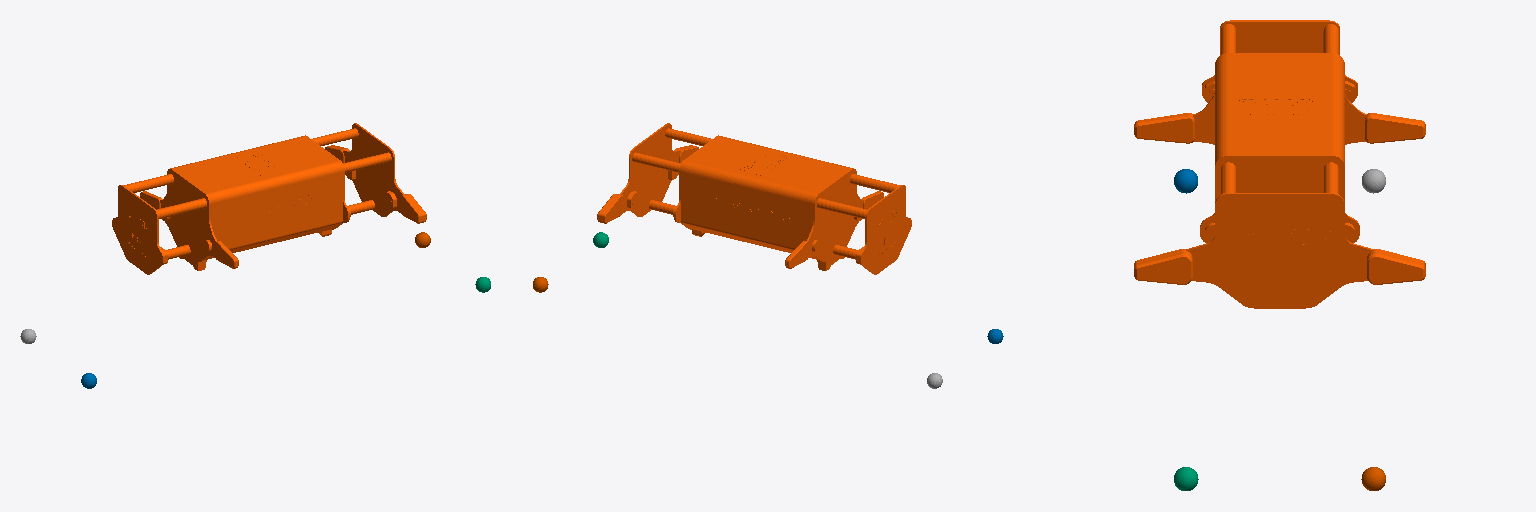
URDF robot description (laikago_description):
<?xml version="1.0" ?>
<!-- =================================================================================== -->
<!-- |    This document was autogenerated by xacro from robot.xacro                    | -->
<!-- |    EDITING THIS FILE BY HAND IS NOT RECOMMENDED                                 | -->
<!-- =================================================================================== -->
<robot name="laikago_description" xmlns:xacro="http://www.ros.org/wiki/xacro">
  <material name="black">
    <color rgba="0.0 0.0 0.0 1.0"/>
  </material>
  <material name="blue">
    <color rgba="0.0 0.0 0.8 1.0"/>
  </material>
  <material name="green">
    <color rgba="0.0 0.8 0.0 1.0"/>
  </material>
  <material name="grey">
    <color rgba="0.2 0.2 0.2 1.0"/>
  </material>
  <material name="silver">
    <color rgba="0.913725490196 0.913725490196 0.847058823529 1.0"/>
  </material>
  <material name="orange">
    <color rgba="1.0 0.423529411765 0.0392156862745 1.0"/>
  </material>
  <material name="brown">
    <color rgba="0.870588235294 0.811764705882 0.764705882353 1.0"/>
  </material>
  <material name="red">
    <color rgba="0.8 0.0 0.0 1.0"/>
  </material>
  <material name="white">
    <color rgba="1.0 1.0 1.0 1.0"/>
  </material>

  <link name="trunk">
    <visual>
      <origin rpy="0 0 0" xyz="0 0 0"/>
      <geometry>
        <mesh filename="../meshes/trunk.dae" scale="1 1 1"/>
      </geometry>
      <material name="orange"/>
    </visual>
    <collision>
      <origin rpy="0 0 0" xyz="0 0 0.01675"/>
      <geometry>
        <box size="0.5616 0.172 0.1875"/>
      </geometry>
    </collision>
    <inertial>
      <origin rpy="0 0 0" xyz="0.002284 -4.1e-05 0.025165"/>
      <mass value="13.733"/>
      <inertia ixx="0.073348887" ixy="0.00030338" ixz="0.001918218" iyy="0.250684593" iyz="-7.5402e-05" izz="0.254469458"/>
    </inertial>
  </link>

  <joint name="FL_hip_joint" type="revolute">
    <origin rpy="0 0 0" xyz="0.21935 0.0875 0"/>
    <parent link="trunk"/>
    <child link="FL_hip"/>
    <axis xyz="1 0 0"/>
    <dynamics damping="0" friction="0"/>
    <limit effort="20" lower="-0.872664625997" upper="1.0471975512" velocity="52.4"/>
  </joint>
  <link name="FL_hip">
    <visual>
      <origin rpy="0 0 0" xyz="0 0 0"/>
      <geometry>
        <mesh filename="../meshes/hip.dae" scale="1 1 1"/>
      </geometry>
      <material name="grey"/>
    </visual>
    <collision>
      <origin rpy="1.57079632679 0 0" xyz="0 -0.021 0"/>
      <geometry>
        <cylinder length="0.08" radius="0.041"/>
      </geometry>
    </collision>
    <inertial>
      <origin rpy="0 0 0" xyz="-0.001568 -0.008134 0.000864"/>
      <mass value="1.096"/>
      <inertia ixx="0.000822113" ixy="-4.982e-06" ixz="-3.672e-05" iyy="0.000983196" iyz="2.811e-06" izz="0.000864753"/>
    </inertial>
  </link>
  <joint name="FL_hip_fixed" type="fixed">
    <origin rpy="0 0 0" xyz="0 0.059 0"/>
    <parent link="FL_hip"/>
    <child link="FL_thigh_shoulder"/>
  </joint>
  <!-- this link is only for collision -->
  <link name="FL_thigh_shoulder">
    <collision>
      <origin rpy="1.57079632679 0 0" xyz="0 0 0"/>
      <geometry>
        <cylinder length="0.08" radius="0.044"/>
      </geometry>
    </collision>
  </link>
  <joint name="FL_thigh_joint" type="revolute">
    <origin rpy="0 0 0" xyz="0 0.037 0"/>
    <parent link="FL_hip"/>
    <child link="FL_thigh"/>
    <axis xyz="0 1 0"/>
    <dynamics damping="0" friction="0"/>
    <limit effort="55" lower="-0.523598775598" upper="3.92699081699" velocity="28.6"/>
  </joint>
  <link name="FL_thigh">
    <visual>
      <origin rpy="0 0 0" xyz="0 0 0"/>
      <geometry>
        <mesh filename="../meshes/thigh.dae" scale="1 1 1"/>
      </geometry>
      <material name="grey"/>
    </visual>
    <collision>
      <origin rpy="0 1.57079632679 0" xyz="0 0 -0.125"/>
      <geometry>
        <box size="0.25 0.034 0.043"/>
      </geometry>
    </collision>
    <inertial>
      <origin rpy="0 0 0" xyz="-0.000482 0.02001 -0.031996"/>
      <mass value="1.528"/>
      <inertia ixx="0.00991611" ixy="1.0388e-05" ixz="0.000250428" iyy="0.009280083" iyz="-8.511e-05" izz="0.00178256"/>
    </inertial>
  </link>
  <joint name="FL_calf_joint" type="revolute">
    <origin rpy="0 0 0" xyz="0 0 -0.25"/>
    <parent link="FL_thigh"/>
    <child link="FL_calf"/>
    <axis xyz="0 1 0"/>
    <dynamics damping="0" friction="0"/>
    <limit effort="55" lower="-2.77507351067" upper="-0.610865238198" velocity="28.6"/>
  </joint>
  <link name="FL_calf">
    <visual>
      <origin rpy="0 0 0" xyz="0 0 0"/>
      <geometry>
        <mesh filename="../meshes/calf.dae" scale="1 1 1"/>
      </geometry>
      <material name="silver"/>
    </visual>
    <collision>
      <origin rpy="0 1.57079632679 0" xyz="0 0 -0.125"/>
      <geometry>
        <box size="0.25 0.016 0.016"/>
      </geometry>
    </collision>
    <inertial>
      <origin rpy="0 0 0" xyz="-0.002196 -0.000381 -0.12338"/>
      <mass value="0.241"/>
      <inertia ixx="0.006181961" ixy="2.37e-07" ixz="-2.985e-06" iyy="0.006196546" iyz="5.138e-06" izz="3.4774e-05"/>
    </inertial>
  </link>
  <joint name="FL_foot_fixed" type="fixed">
    <origin rpy="0 0 0" xyz="0 0 -0.25"/>
    <parent link="FL_calf"/>
    <child link="FL_foot"/>
  </joint>
  <link name="FL_foot">
    <visual>
      <origin rpy="0 0 0" xyz="0 0 0"/>
      <geometry>
        <sphere radius="0.0165"/>
      </geometry>
    </visual>
    <collision>
      <origin rpy="0 0 0" xyz="0 0 0"/>
      <geometry>
        <sphere radius="0.0265"/>
      </geometry>
    </collision>
    <inertial>
      <mass value="0.06"/>
      <inertia ixx="1.6854e-05" ixy="0.0" ixz="0.0" iyy="1.6854e-05" iyz="0.0" izz="1.6854e-05"/>
    </inertial>
  </link>

  <joint name="FR_hip_joint" type="revolute">
    <origin rpy="0 0 0" xyz="0.21935 -0.0875 0"/>
    <parent link="trunk"/>
    <child link="FR_hip"/>
    <axis xyz="1 0 0"/>
    <dynamics damping="0" friction="0"/>
    <limit effort="20" lower="-1.0471975512" upper="0.872664625997" velocity="52.4"/>
  </joint>
  <link name="FR_hip">
    <visual>
      <origin rpy="3.14159265359 0 0" xyz="0 0 0"/>
      <geometry>
        <mesh filename="../meshes/hip.dae" scale="1 1 1"/>
      </geometry>
      <material name="grey"/>
    </visual>
    <collision>
      <origin rpy="1.57079632679 0 0" xyz="0 0.021 0"/>
      <geometry>
        <cylinder length="0.08" radius="0.041"/>
      </geometry>
    </collision>
    <inertial>
      <origin rpy="0 0 0" xyz="-0.001568 0.008134 0.000864"/>
      <mass value="1.096"/>
      <inertia ixx="0.000822113" ixy="4.982e-06" ixz="-3.672e-05" iyy="0.000983196" iyz="-2.811e-06" izz="0.000864753"/>
    </inertial>
  </link>
  <joint name="FR_hip_fixed" type="fixed">
    <origin rpy="0 0 0" xyz="0 -0.059 0"/>
    <parent link="FR_hip"/>
    <child link="FR_thigh_shoulder"/>
  </joint>
  <!-- this link is only for collision -->
  <link name="FR_thigh_shoulder">
    <collision>
      <origin rpy="1.57079632679 0 0" xyz="0 0 0"/>
      <geometry>
        <cylinder length="0.08" radius="0.044"/>
      </geometry>
    </collision>
  </link>
  <joint name="FR_thigh_joint" type="revolute">
    <origin rpy="0 0 0" xyz="0 -0.037 0"/>
    <parent link="FR_hip"/>
    <child link="FR_thigh"/>
    <axis xyz="0 1 0"/>
    <dynamics damping="0" friction="0"/>
    <limit effort="55" lower="-0.523598775598" upper="3.92699081699" velocity="28.6"/>
  </joint>
  <link name="FR_thigh">
    <visual>
      <origin rpy="0 0 0" xyz="0 0 0"/>
      <geometry>
        <mesh filename="../meshes/thigh_mirror.dae" scale="1 1 1"/>
      </geometry>
      <material name="grey"/>
    </visual>
    <collision>
      <origin rpy="0 1.57079632679 0" xyz="0 0 -0.125"/>
      <geometry>
        <box size="0.25 0.034 0.043"/>
      </geometry>
    </collision>
    <inertial>
      <origin rpy="0 0 0" xyz="-0.000482 -0.02001 -0.031996"/>
      <mass value="1.528"/>
      <inertia ixx="0.00991611" ixy="-1.0388e-05" ixz="0.000250428" iyy="0.009280083" iyz="8.511e-05" izz="0.00178256"/>
    </inertial>
  </link>
  <joint name="FR_calf_joint" type="revolute">
    <origin rpy="0 0 0" xyz="0 0 -0.25"/>
    <parent link="FR_thigh"/>
    <child link="FR_calf"/>
    <axis xyz="0 1 0"/>
    <dynamics damping="0" friction="0"/>
    <limit effort="55" lower="-2.77507351067" upper="-0.610865238198" velocity="28.6"/>
  </joint>
  <link name="FR_calf">
    <visual>
      <origin rpy="0 0 0" xyz="0 0 0"/>
      <geometry>
        <mesh filename="../meshes/calf.dae" scale="1 1 1"/>
      </geometry>
      <material name="silver"/>
    </visual>
    <collision>
      <origin rpy="0 1.57079632679 0" xyz="0 0 -0.125"/>
      <geometry>
        <box size="0.25 0.016 0.016"/>
      </geometry>
    </collision>
    <inertial>
      <origin rpy="0 0 0" xyz="-0.002196 -0.000381 -0.12338"/>
      <mass value="0.241"/>
      <inertia ixx="0.006181961" ixy="2.37e-07" ixz="-2.985e-06" iyy="0.006196546" iyz="5.138e-06" izz="3.4774e-05"/>
    </inertial>
  </link>
  <joint name="FR_foot_fixed" type="fixed">
    <origin rpy="0 0 0" xyz="0 0 -0.25"/>
    <parent link="FR_calf"/>
    <child link="FR_foot"/>
  </joint>
  <link name="FR_foot">
    <visual>
      <origin rpy="0 0 0" xyz="0 0 0"/>
      <geometry>
        <sphere radius="0.0165"/>
      </geometry>
    </visual>
    <collision>
      <origin rpy="0 0 0" xyz="0 0 0"/>
      <geometry>
        <sphere radius="0.0265"/>
      </geometry>
    </collision>
    <inertial>
      <mass value="0.06"/>
      <inertia ixx="1.6854e-05" ixy="0.0" ixz="0.0" iyy="1.6854e-05" iyz="0.0" izz="1.6854e-05"/>
    </inertial>
  </link>

  <joint name="RL_hip_joint" type="revolute">
    <origin rpy="0 0 0" xyz="-0.21935 0.0875 0"/>
    <parent link="trunk"/>
    <child link="RL_hip"/>
    <axis xyz="1 0 0"/>
    <dynamics damping="0" friction="0"/>
    <limit effort="20" lower="-0.872664625997" upper="1.0471975512" velocity="52.4"/>
  </joint>
  <link name="RL_hip">
    <visual>
      <origin rpy="0 3.14159265359 0" xyz="0 0 0"/>
      <geometry>
        <mesh filename="../meshes/hip.dae" scale="1 1 1"/>
      </geometry>
      <material name="grey"/>
    </visual>
    <collision>
      <origin rpy="1.57079632679 0 0" xyz="0 -0.021 0"/>
      <geometry>
        <cylinder length="0.08" radius="0.041"/>
      </geometry>
    </collision>
    <inertial>
      <origin rpy="0 0 0" xyz="0.001568 -0.008134 0.000864"/>
      <mass value="1.096"/>
      <inertia ixx="0.000822113" ixy="4.982e-06" ixz="3.672e-05" iyy="0.000983196" iyz="2.811e-06" izz="0.000864753"/>
    </inertial>
  </link>
  <joint name="RL_hip_fixed" type="fixed">
    <origin rpy="0 0 0" xyz="0 0.059 0"/>
    <parent link="RL_hip"/>
    <child link="RL_thigh_shoulder"/>
  </joint>
  <!-- this link is only for collision -->
  <link name="RL_thigh_shoulder">
    <collision>
      <origin rpy="1.57079632679 0 0" xyz="0 0 0"/>
      <geometry>
        <cylinder length="0.08" radius="0.044"/>
      </geometry>
    </collision>
  </link>
  <joint name="RL_thigh_joint" type="revolute">
    <origin rpy="0 0 0" xyz="0 0.037 0"/>
    <parent link="RL_hip"/>
    <child link="RL_thigh"/>
    <axis xyz="0 1 0"/>
    <dynamics damping="0" friction="0"/>
    <limit effort="55" lower="-3.92699081699" upper="0.523598775598" velocity="28.6"/>
  </joint>
  <link name="RL_thigh">
    <visual>
      <origin rpy="0 0 3.14159265359" xyz="0 0 0"/>
      <geometry>
        <mesh filename="../meshes/thigh_mirror.dae" scale="1 1 1"/>
      </geometry>
    </visual>
    <collision>
      <origin rpy="0 1.57079632679 0" xyz="0 0 -0.125"/>
      <geometry>
        <box size="0.25 0.034 0.043"/>
      </geometry>
    </collision>
    <inertial>
      <origin rpy="0 0 0" xyz="-0.000482 0.02001 -0.031996"/>
      <mass value="1.528"/>
      <inertia ixx="0.00991611" ixy="1.0388e-05" ixz="0.000250428" iyy="0.009280083" iyz="-8.511e-05" izz="0.00178256"/>
    </inertial>
  </link>
  <joint name="RL_calf_joint" type="revolute">
    <origin rpy="0 0 0" xyz="0 0 -0.25"/>
    <parent link="RL_thigh"/>
    <child link="RL_calf"/>
    <axis xyz="0 1 0"/>
    <dynamics damping="0" friction="0"/>
    <limit effort="55" lower="0.610865238198" upper="2.77507351067" velocity="28.6"/>
  </joint>
  <link name="RL_calf">
    <visual>
      <origin rpy="0 0 3.14159265359" xyz="0 0 0"/>
      <geometry>
        <mesh filename="../meshes/calf.dae" scale="1 1 1"/>
      </geometry>
    </visual>
    <collision>
      <origin rpy="0 1.57079632679 0" xyz="0 0 -0.125"/>
      <geometry>
        <box size="0.25 0.016 0.016"/>
      </geometry>
    </collision>
    <inertial>
      <origin rpy="0 0 0" xyz="-0.002196 -0.000381 -0.12338"/>
      <mass value="0.241"/>
      <inertia ixx="0.006181961" ixy="2.37e-07" ixz="-2.985e-06" iyy="0.006196546" iyz="5.138e-06" izz="3.4774e-05"/>
    </inertial>
  </link>
  <joint name="RL_foot_fixed" type="fixed">
    <origin rpy="0 0 0" xyz="0 0 -0.25"/>
    <parent link="RL_calf"/>
    <child link="RL_foot"/>
  </joint>
  <link name="RL_foot">
    <visual>
      <origin rpy="0 0 0" xyz="0 0 0"/>
      <geometry>
        <sphere radius="0.0165"/>
      </geometry>
    </visual>
    <collision>
      <origin rpy="0 0 0" xyz="0 0 0"/>
      <geometry>
        <sphere radius="0.0265"/>
      </geometry>
    </collision>
    <inertial>
      <mass value="0.06"/>
      <inertia ixx="1.6854e-05" ixy="0.0" ixz="0.0" iyy="1.6854e-05" iyz="0.0" izz="1.6854e-05"/>
    </inertial>
  </link>

  <joint name="RR_hip_joint" type="revolute">
    <origin rpy="0 0 0" xyz="-0.21935 -0.0875 0"/>
    <parent link="trunk"/>
    <child link="RR_hip"/>
    <axis xyz="1 0 0"/>
    <dynamics damping="0" friction="0"/>
    <limit effort="20" lower="-1.0471975512" upper="0.872664625997" velocity="52.4"/>
  </joint>
  <link name="RR_hip">
    <visual>
      <origin rpy="3.14159265359 3.14159265359 0" xyz="0 0 0"/>
      <geometry>
        <mesh filename="../meshes/hip.dae" scale="1 1 1"/>
      </geometry>
      <material name="grey"/>
    </visual>
    <collision>
      <origin rpy="1.57079632679 0 0" xyz="0 0.021 0"/>
      <geometry>
        <cylinder length="0.08" radius="0.041"/>
      </geometry>
    </collision>
    <inertial>
      <origin rpy="0 0 0" xyz="0.001568 0.008134 0.000864"/>
      <mass value="1.096"/>
      <inertia ixx="0.000822113" ixy="-4.982e-06" ixz="3.672e-05" iyy="0.000983196" iyz="-2.811e-06" izz="0.000864753"/>
    </inertial>
  </link>
  <joint name="RR_hip_fixed" type="fixed">
    <origin rpy="0 0 0" xyz="0 -0.059 0"/>
    <parent link="RR_hip"/>
    <child link="RR_thigh_shoulder"/>
  </joint>
  <!-- this link is only for collision -->
  <link name="RR_thigh_shoulder">
    <collision>
      <origin rpy="1.57079632679 0 0" xyz="0 0 0"/>
      <geometry>
        <cylinder length="0.08" radius="0.044"/>
      </geometry>
    </collision>
  </link>
  <joint name="RR_thigh_joint" type="revolute">
    <origin rpy="0 0 0" xyz="0 -0.037 0"/>
    <parent link="RR_hip"/>
    <child link="RR_thigh"/>
    <axis xyz="0 1 0"/>
    <dynamics damping="0" friction="0"/>
    <limit effort="55" lower="-3.92699081699" upper="0.523598775598" velocity="28.6"/>
  </joint>
  <link name="RR_thigh">
    <visual>
      <origin rpy="0 0 3.14159265359" xyz="0 0 0"/>
      <geometry>
        <mesh filename="../meshes/thigh.dae" scale="1 1 1"/>
      </geometry>
      <material name="grey"/>
    </visual>
    <collision>
      <origin rpy="0 1.57079632679 0" xyz="0 0 -0.125"/>
      <geometry>
        <box size="0.25 0.034 0.043"/>
      </geometry>
    </collision>
    <inertial>
      <origin rpy="0 0 0" xyz="-0.000482 -0.02001 -0.031996"/>
      <mass value="1.528"/>
      <inertia ixx="0.00991611" ixy="-1.0388e-05" ixz="0.000250428" iyy="0.009280083" iyz="8.511e-05" izz="0.00178256"/>
    </inertial>
  </link>
  <joint name="RR_calf_joint" type="revolute">
    <origin rpy="0 0 0" xyz="0 0 -0.25"/>
    <parent link="RR_thigh"/>
    <child link="RR_calf"/>
    <axis xyz="0 1 0"/>
    <dynamics damping="0" friction="0"/>
    <limit effort="55" lower="0.610865238198" upper="2.77507351067" velocity="28.6"/>
  </joint>
  <link name="RR_calf">
    <visual>
      <origin rpy="0 0 3.14159265359" xyz="0 0 0"/>
      <geometry>
        <mesh filename="../meshes/calf.dae" scale="1 1 1"/>
      </geometry>
      <material name="silver"/>
    </visual>
    <collision>
      <origin rpy="0 1.57079632679 0" xyz="0 0 -0.125"/>
      <geometry>
        <box size="0.25 0.016 0.016"/>
      </geometry>
    </collision>
    <inertial>
      <origin rpy="0 0 0" xyz="-0.002196 -0.000381 -0.12338"/>
      <mass value="0.241"/>
      <inertia ixx="0.006181961" ixy="2.37e-07" ixz="-2.985e-06" iyy="0.006196546" iyz="5.138e-06" izz="3.4774e-05"/>
    </inertial>
  </link>
  <joint name="RR_foot_fixed" type="fixed">
    <origin rpy="0 0 0" xyz="0 0 -0.25"/>
    <parent link="RR_calf"/>
    <child link="RR_foot"/>
  </joint>
  <link name="RR_foot">
    <visual>
      <origin rpy="0 0 0" xyz="0 0 0"/>
      <geometry>
        <sphere radius="0.0165"/>
      </geometry>
    </visual>
    <collision>
      <origin rpy="0 0 0" xyz="0 0 0"/>
      <geometry>
        <sphere radius="0.0265"/>
      </geometry>
    </collision>
    <inertial>
      <mass value="0.06"/>
      <inertia ixx="1.6854e-05" ixy="0.0" ixz="0.0" iyy="1.6854e-05" iyz="0.0" izz="1.6854e-05"/>
    </inertial>
  </link>

</robot>

--- Render facts (derived) ---
3 views of the same robot in one strip: view 1: azimuth 30°, elevation 25°; view 2: azimuth 150°, elevation 25°; view 3: azimuth 270°, elevation 25° (orthographic).
Robot: laikago_description — 21 links, 20 joints (12 revolute, 8 fixed); root link trunk; default pose: joints at zero except 4 at the middle of their limits (FL_calf_joint = -1.69, FR_calf_joint = -1.69, RL_calf_joint = 1.69, RR_calf_joint = 1.69).
Visible links, largest first — view 1: trunk; view 2: trunk; view 3: trunk.
Link boxes in pixels (x1=…): trunk: x1=112, y1=123, x2=426, y2=274; trunk: x1=597, y1=123, x2=911, y2=274; trunk: x1=1134, y1=20, x2=1425, y2=308.
Size in the robot's own frame: 0.9679 by 0.386 by 0.3468 metres.
1 mesh visuals loaded from 5 distinct referenced files (1 Collada DAE); not drawn: 12 (reference not matched to a file when rendering).